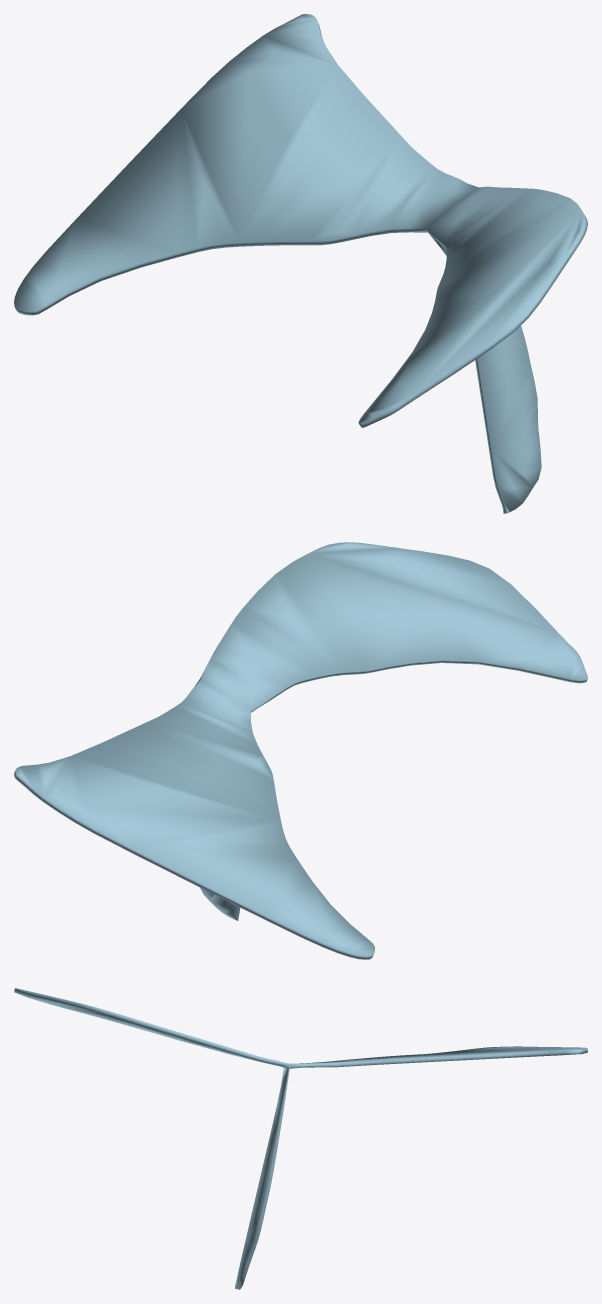
File: articulacoes-triradiate-cartilage-r.glb
3 views of the same model, one above another, from view 1: azimuth 30°, elevation 25°; view 2: azimuth 150°, elevation 25°; view 3: azimuth 270°, elevation 25° (orthographic). The views are drawn at different scales.
Parts seen in each view (by area): view 1: Triradiate cartilage.r; view 2: Triradiate cartilage.r; view 3: Triradiate cartilage.r.
Boxes of the visible parts, x1,y1,x2,y2 form: Triradiate cartilage.r: (14, 14, 587, 513); Triradiate cartilage.r: (14, 542, 587, 959); Triradiate cartilage.r: (14, 988, 587, 1289).
Size of the model in its own units: 0.0378 by 0.036 by 0.0678.
